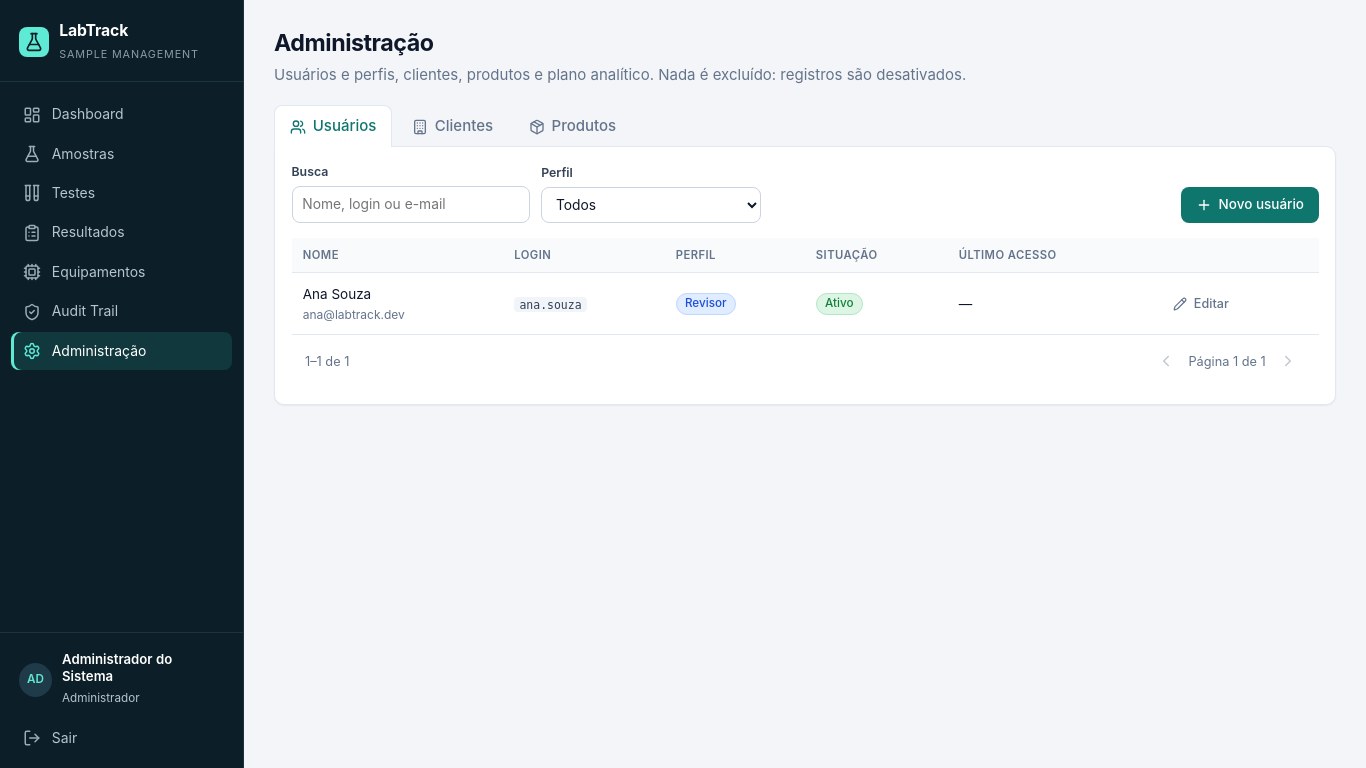
Scenario: Administração › desativa um usuário em vez de excluir
Click the button "Editar": (1201, 304) top-left (1163, 289), bottom-right (1239, 319)
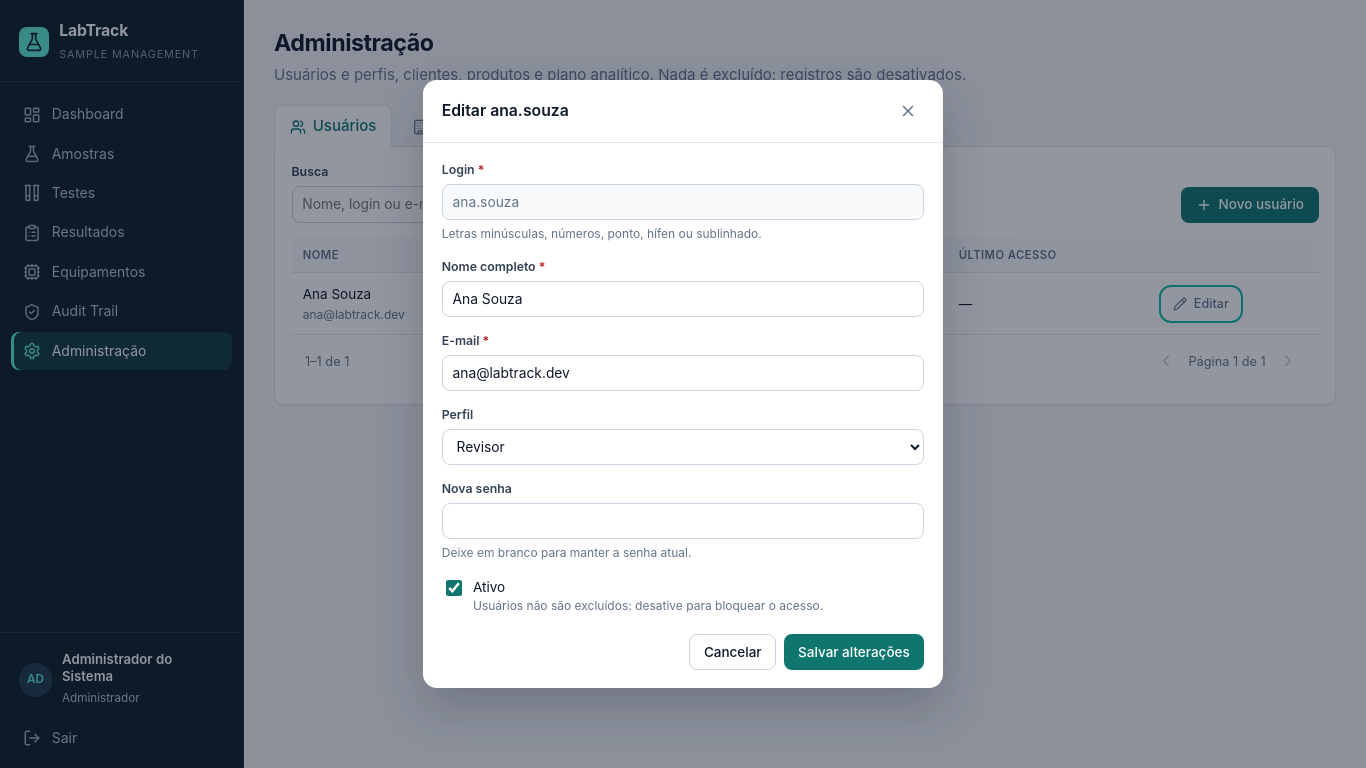
Click the checkbox labelled "Ativo": (454, 588) top-left (446, 580), bottom-right (462, 596)
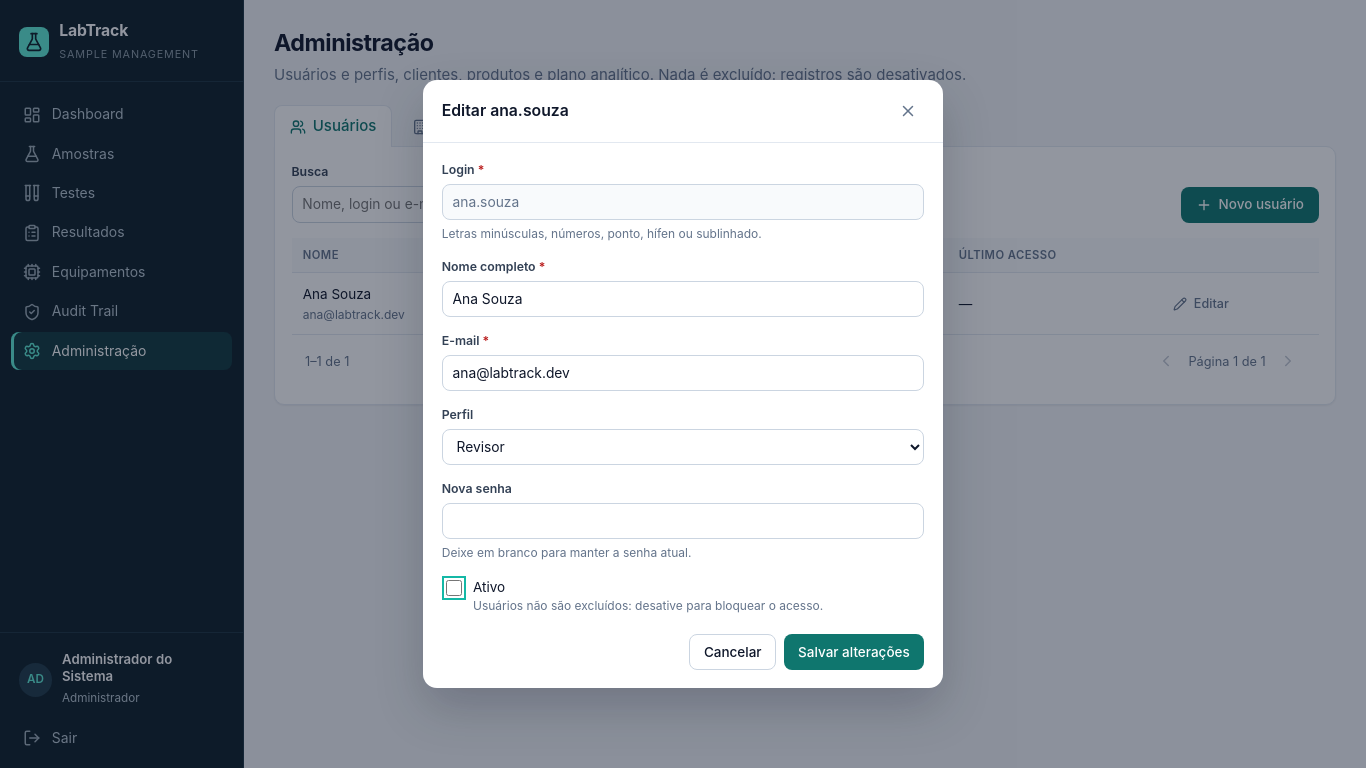
Click the button "Salvar alterações": (854, 652) top-left (784, 634), bottom-right (924, 670)
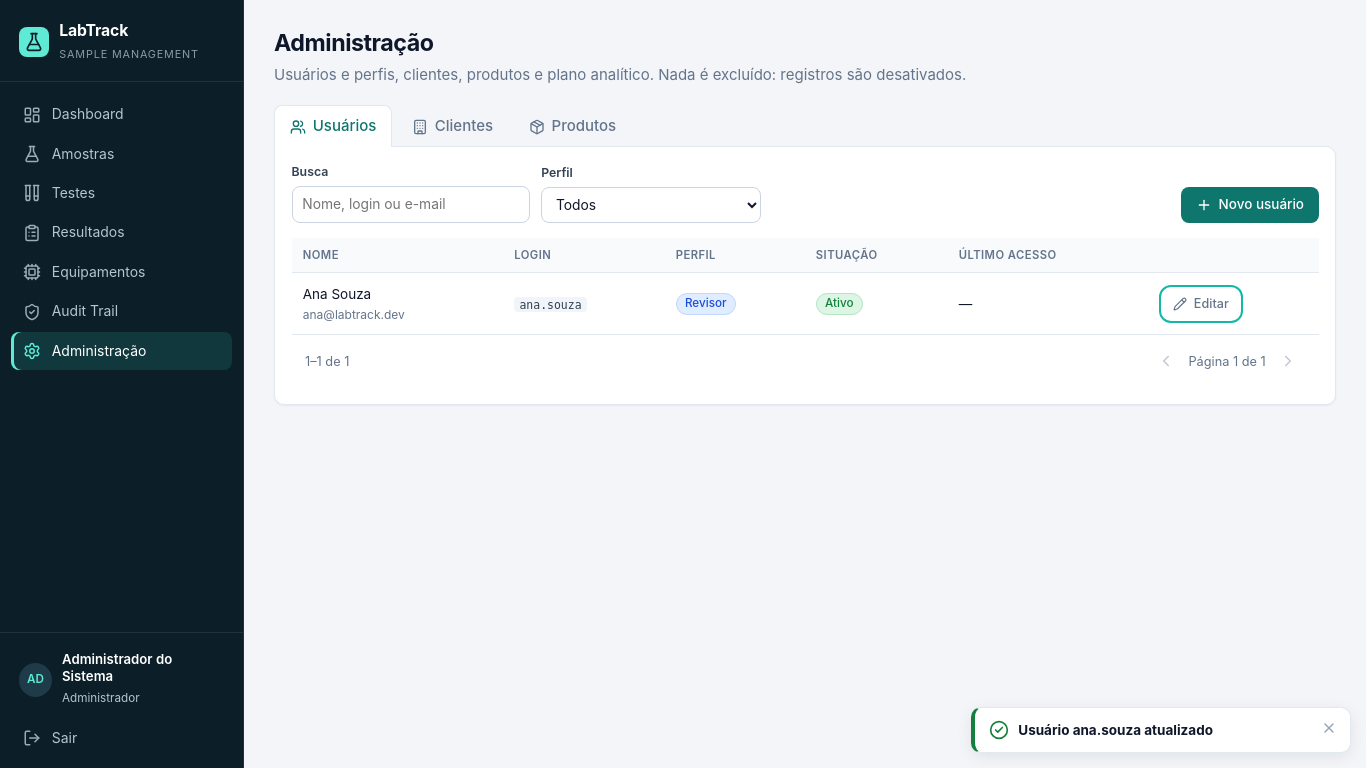
expect the text "Usuário ana.souza atualizado" is shown: met, box top-left (1018, 722), bottom-right (1213, 738)
